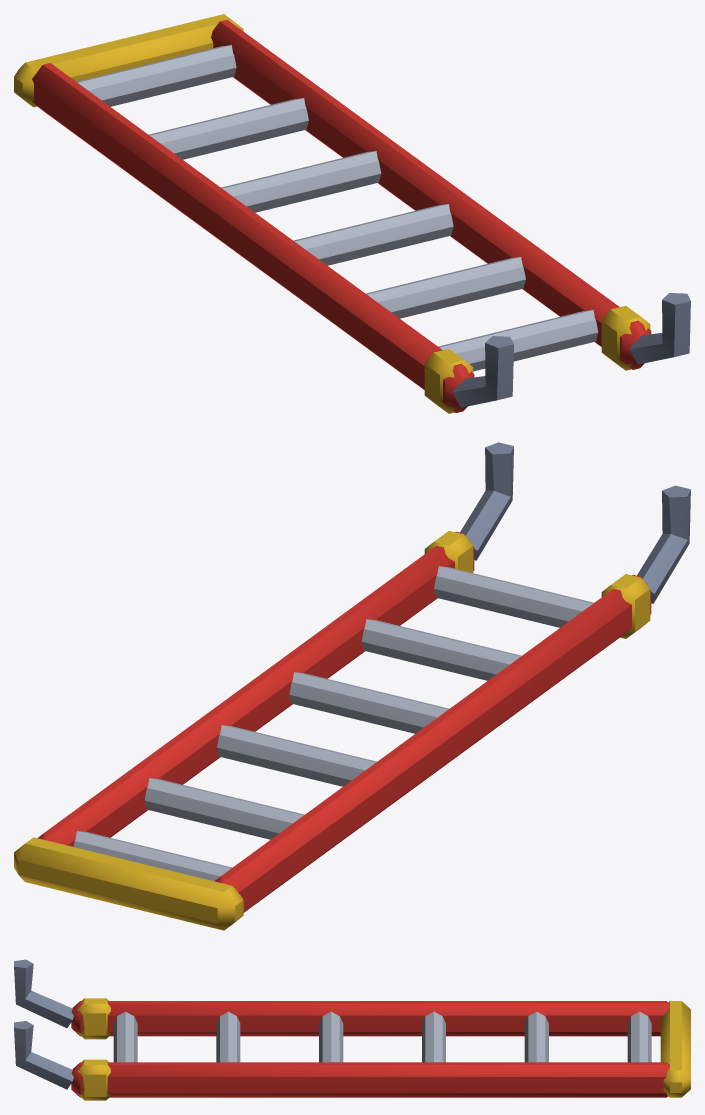
The model's file is w_m_ladder.glb.
3 views of the same model, one above another, from view 1: azimuth 30°, elevation 25°; view 2: azimuth 150°, elevation 25°; view 3: azimuth 270°, elevation 25° (orthographic). The views are drawn at different scales.
Visible parts, largest first — view 1: body; view 2: body; view 3: body.
Boxes of the visible parts, <box> form: body: <box>14,14,690,413</box>; body: <box>14,442,690,930</box>; body: <box>14,959,690,1100</box>.
Bounding box in the file's own units: 0.33 × 0.1458 × 1.23.
